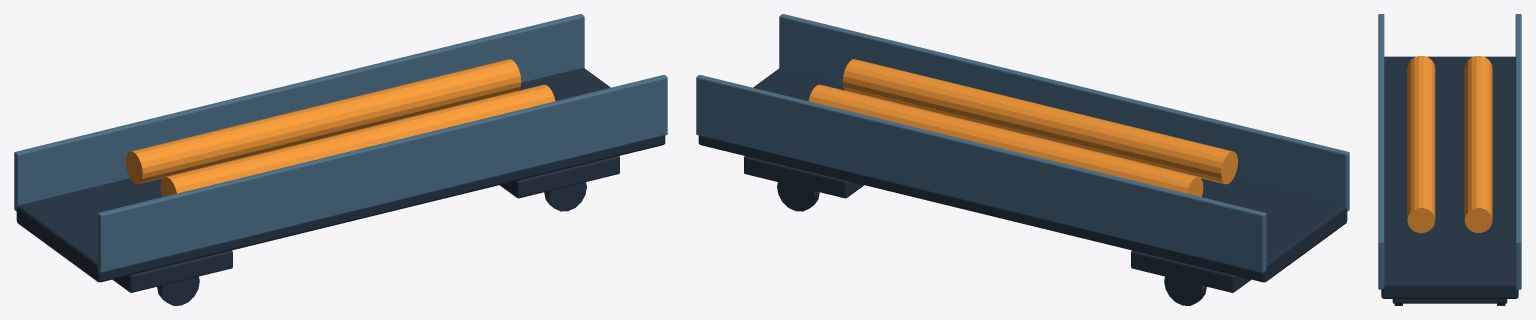
The model's file is rebar-wagon-v3-medium.glb.
3 renders of one model, left to right at view 1: azimuth 30°, elevation 25°; view 2: azimuth 150°, elevation 25°; view 3: azimuth 270°, elevation 25°, orthographic. The views are drawn at different scales.
Parts seen in each view (by area): view 1: WAGON-FLAT-01-side.002, WAGON-FLAT-01-side.003, WAGON-FLAT-01-cargo.003, WAGON-FLAT-01-deck.001, WAGON-FLAT-01-cargo.002, WAGON-FLAT-01-bogie.002, WAGON-FLAT-01-bogie.003, WAGON-FLAT-01-wheel.004, WAGON-FLAT-01-wheel.006; view 2: WAGON-FLAT-01-side.003, WAGON-FLAT-01-side.002, WAGON-FLAT-01-cargo.002, WAGON-FLAT-01-deck.001, WAGON-FLAT-01-cargo.003, WAGON-FLAT-01-bogie.002, WAGON-FLAT-01-bogie.003, WAGON-FLAT-01-wheel.005, WAGON-FLAT-01-wheel.007; view 3: WAGON-FLAT-01-deck.001, WAGON-FLAT-01-cargo.002, WAGON-FLAT-01-cargo.003, WAGON-FLAT-01-side.002, WAGON-FLAT-01-side.003, WAGON-FLAT-01-bogie.003.
Boxes of the visible parts, x1,y1,x2,y2 form: WAGON-FLAT-01-side.002: (97,75,667,272); WAGON-FLAT-01-side.003: (14,14,584,211); WAGON-FLAT-01-cargo.003: (126,59,521,184); WAGON-FLAT-01-deck.001: (16,68,665,282); WAGON-FLAT-01-cargo.002: (160,84,555,196); WAGON-FLAT-01-bogie.002: (113,250,232,292); WAGON-FLAT-01-bogie.003: (499,156,619,198); WAGON-FLAT-01-wheel.004: (157,276,199,305); WAGON-FLAT-01-wheel.006: (544,182,586,211); WAGON-FLAT-01-side.003: (696,75,1266,272); WAGON-FLAT-01-side.002: (779,14,1349,211); WAGON-FLAT-01-cargo.002: (842,59,1237,184); WAGON-FLAT-01-deck.001: (698,68,1347,282); WAGON-FLAT-01-cargo.003: (808,84,1203,196); WAGON-FLAT-01-bogie.002: (1131,250,1250,292); WAGON-FLAT-01-bogie.003: (744,156,864,198); WAGON-FLAT-01-wheel.005: (1164,276,1206,305); WAGON-FLAT-01-wheel.007: (777,182,819,211); WAGON-FLAT-01-deck.001: (1381,56,1518,298); WAGON-FLAT-01-cargo.002: (1407,56,1435,232); WAGON-FLAT-01-cargo.003: (1464,56,1492,232); WAGON-FLAT-01-side.002: (1378,14,1384,289); WAGON-FLAT-01-side.003: (1515,14,1521,289); WAGON-FLAT-01-bogie.003: (1392,299,1507,303).
Size of the model in its own units: 13.2 by 2.66 by 3.5.
